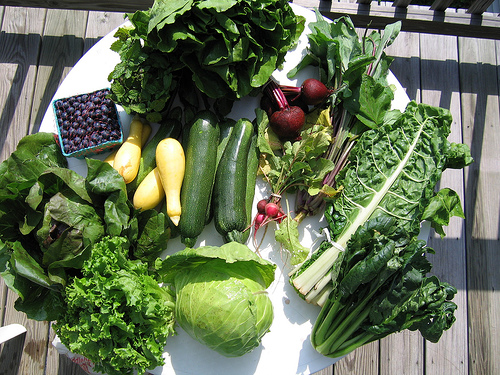cabbage: (153, 243, 276, 357)
